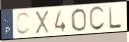4: (54, 8, 68, 33)
C: (89, 6, 107, 33), (15, 11, 32, 37)
L: (108, 5, 123, 31)
O: (70, 8, 88, 33)
X: (34, 10, 50, 36)
